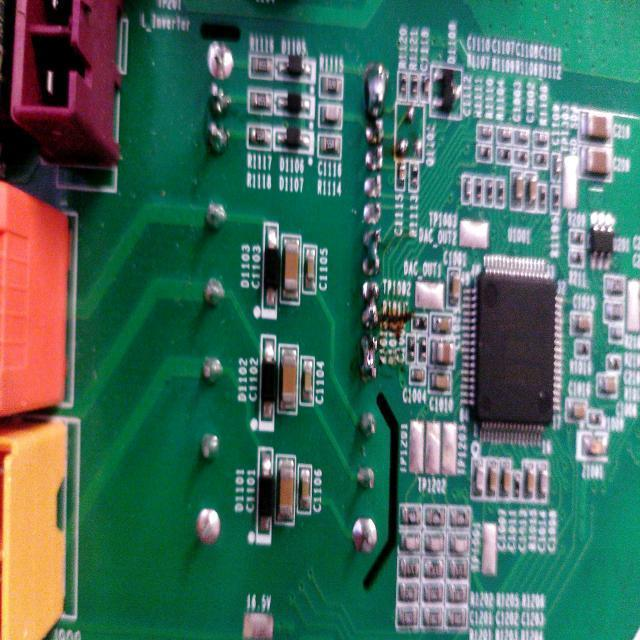Soldering shorted: (357, 334, 381, 392), (364, 61, 387, 120), (360, 276, 380, 333), (362, 225, 382, 280)
